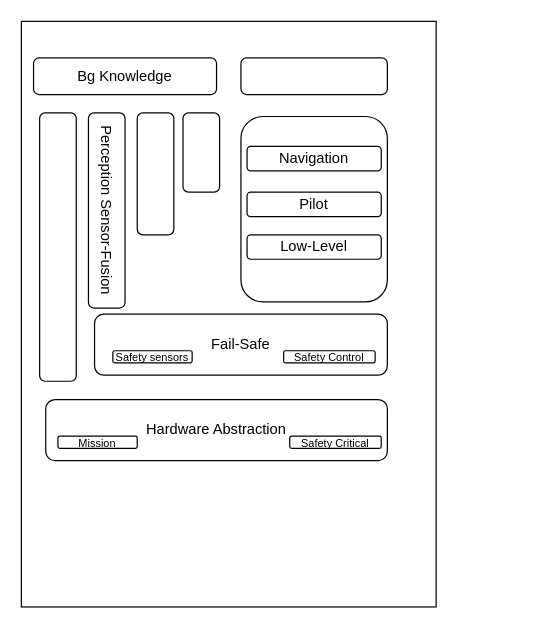
Image size: 537x641. Some labels were removed from this diagram. Each missing label, with the centre of its shape:
"Assessment Cross-Evaluation" goes at (x=57, y=246).
"Evaluation" goes at (x=201, y=152).
"Mapping" goes at (x=155, y=173).
"User Interaface" goes at (x=313, y=76).
